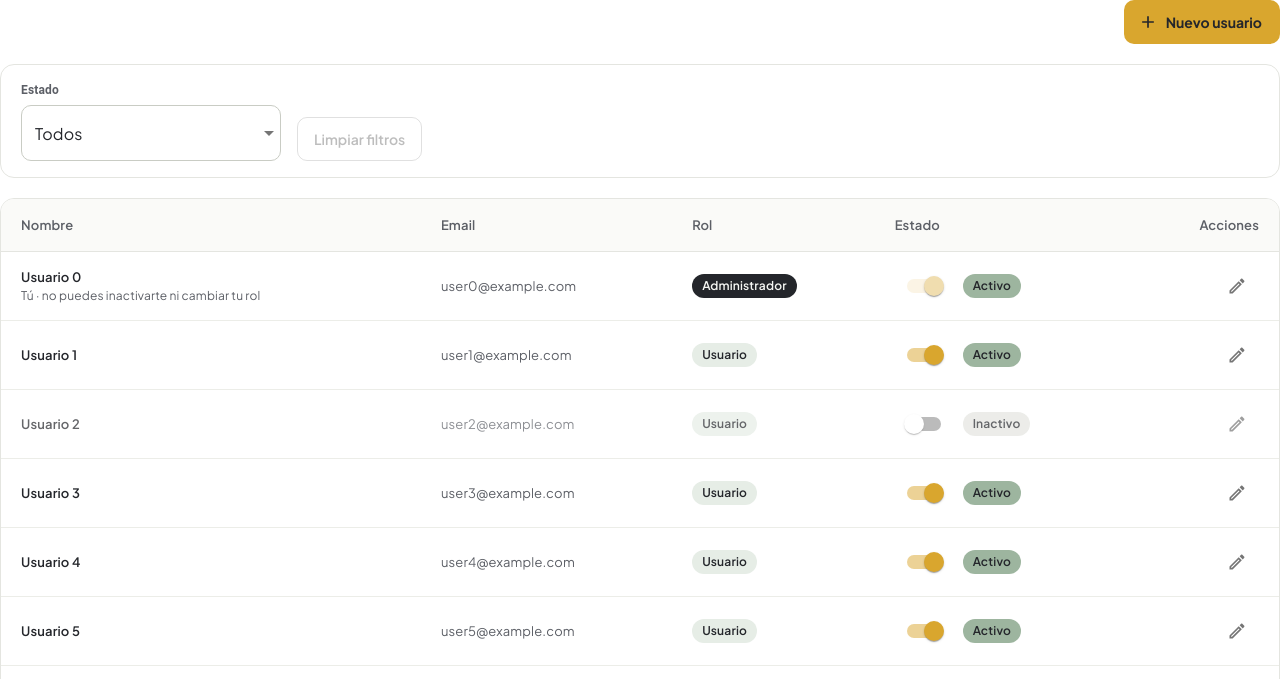
it: UsersPage › asks before deactivating and sends nothing when canceled
Click the switch named "Inactivar a Usuario 1" at (934, 355), box [924, 345, 944, 365]
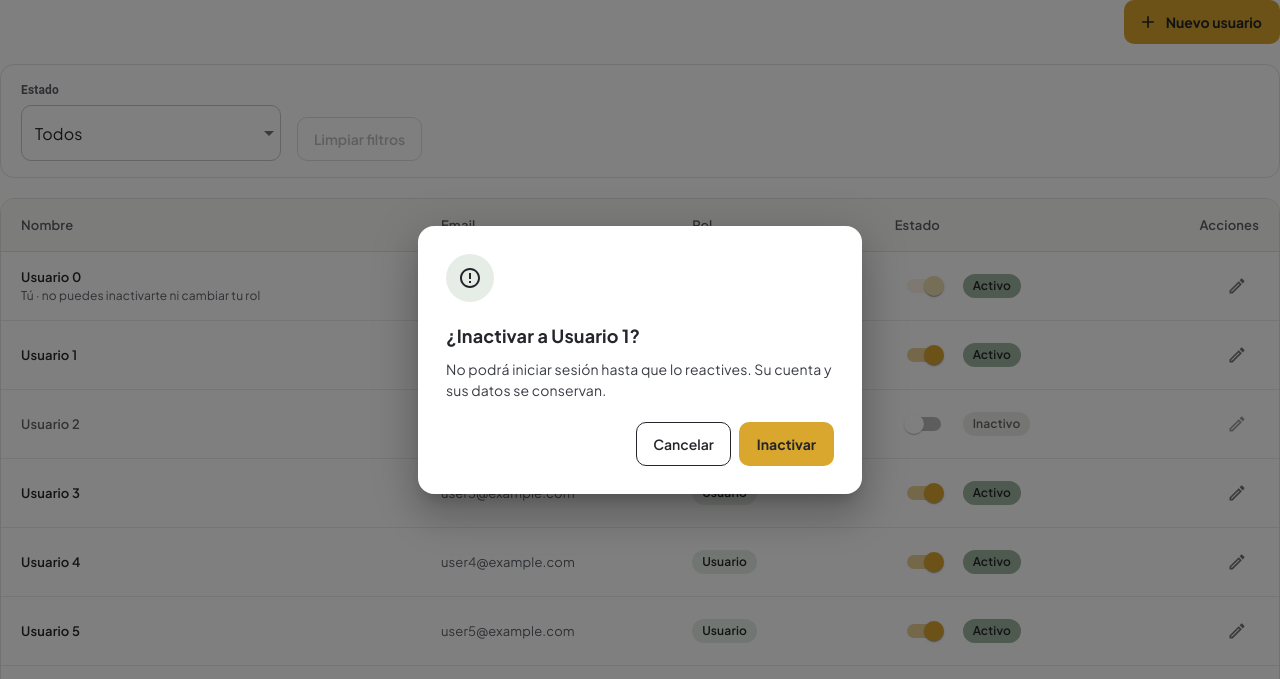
Expected: the text "No podrá iniciar sesión hasta que lo reactives. Su cuenta y sus datos se conservan." is shown, [446, 360, 832, 399]
Click the button "Cancelar" at (683, 444), box [636, 422, 731, 466]
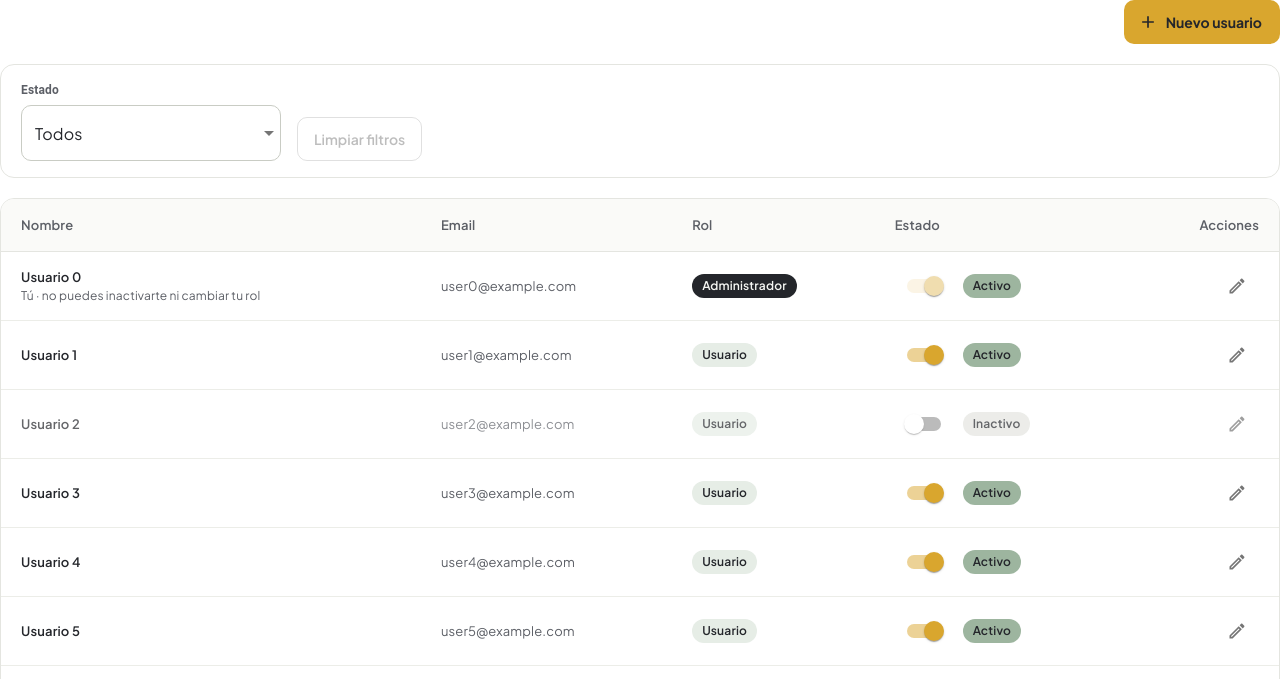
Expected: the switch named "Inactivar a Usuario 1" is checked, [924, 345, 944, 365]
Expected: the dialog is gone
